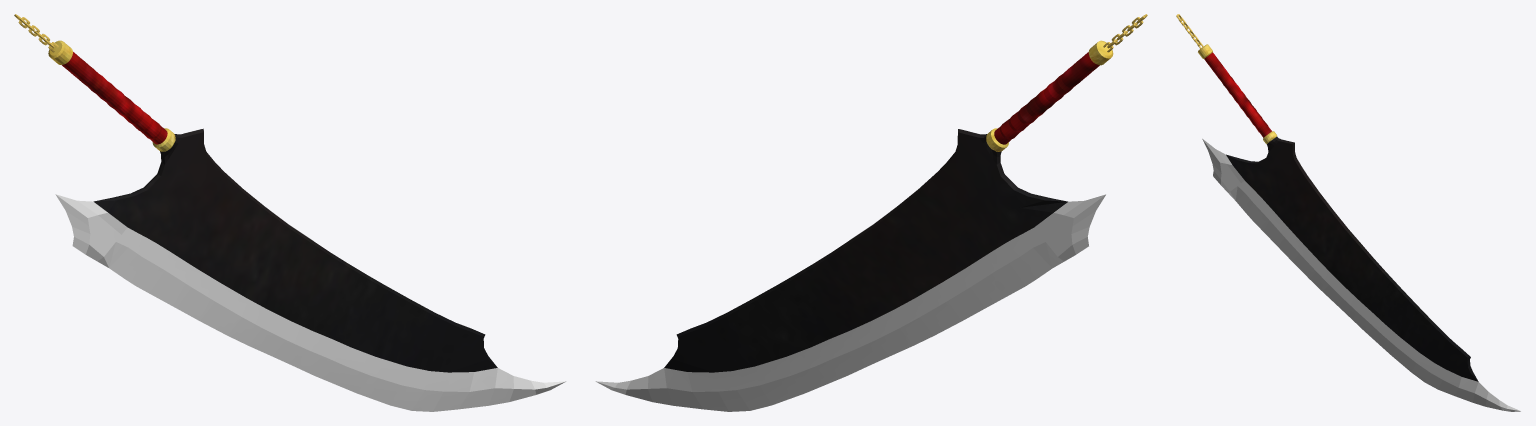
File: ichigo_sword_the_second_mode.glb
The picture shows the model from 3 angles, left to right: view 1: azimuth 30°, elevation 25°; view 2: azimuth 150°, elevation 25°; view 3: azimuth 330°, elevation 25°; orthographic projection. The views are drawn at different scales.
Visible parts, largest first — view 1: Plane; view 2: Plane; view 3: Plane.
Boxes of the visible parts, left/top/right/bottom form: Plane: left=14, top=14, right=566, bottom=411; Plane: left=595, top=14, right=1147, bottom=411; Plane: left=1176, top=14, right=1520, bottom=411.
Bounding box in the file's own units: 7.58 × 6.66 × 0.2713.
1 material, 1 textured.
